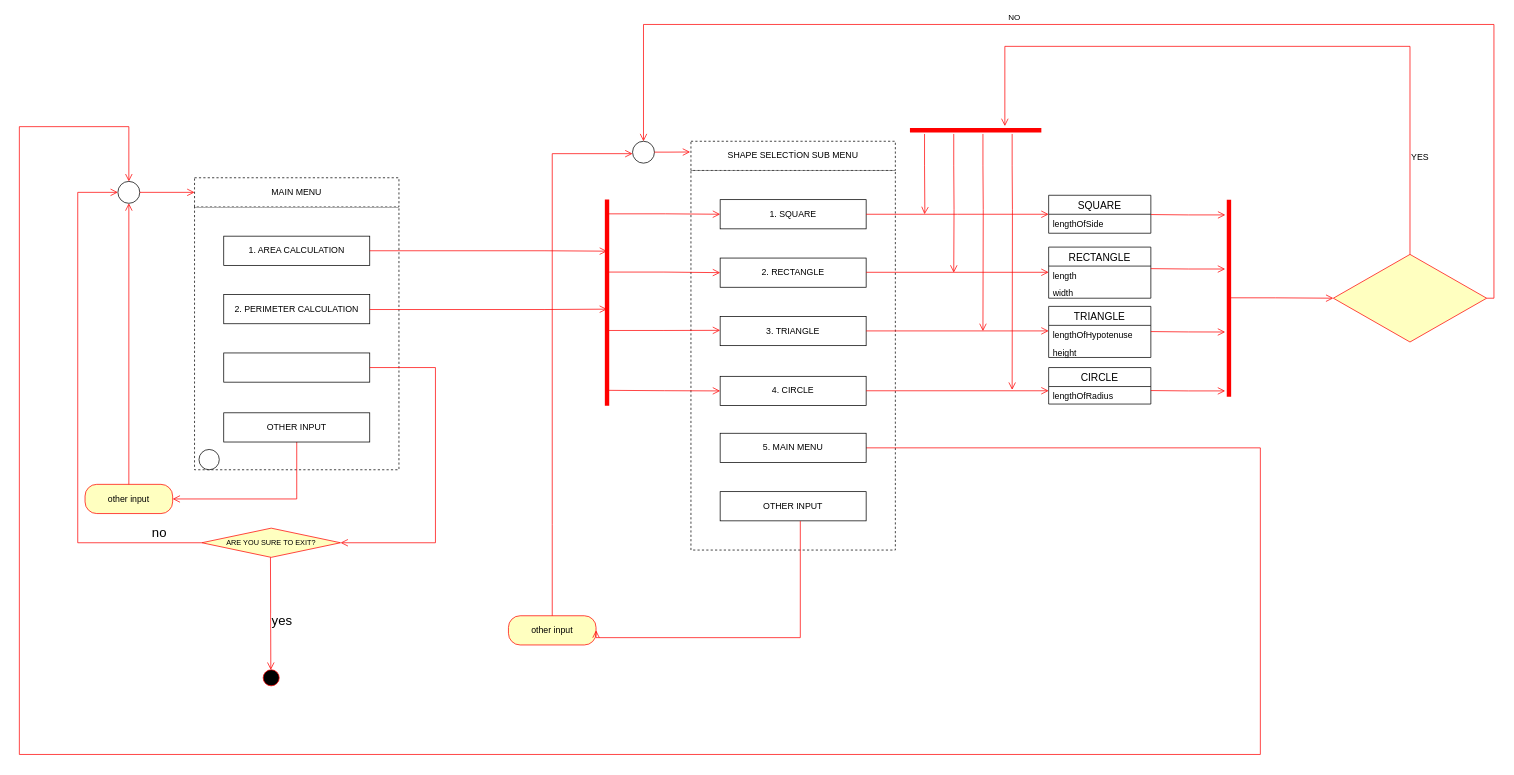
The diagram is 1514 pixels wide and 775 high, and some of its shapes have lost their labels. The centre of each missing label's shape, as x and y in pixels:
"3. EXIT" goes at pixel 296 367.
"DO YOU WANT TO CALCULATE {MEASURE} FOR {SHAPE}?" goes at pixel 1410 298.
"start" goes at pixel 208 459.
